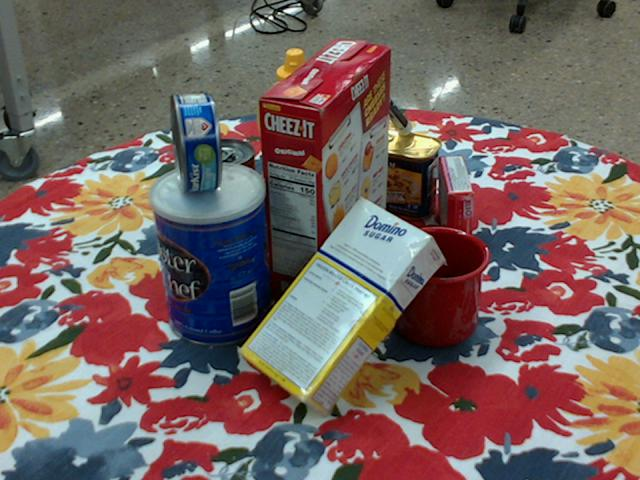cracker_box: (257, 40, 391, 311)
gelatin_box: (438, 154, 472, 251)
large_marker: (364, 80, 411, 134)
master_chef_can: (150, 163, 270, 349)
mug: (360, 225, 489, 346)
mustard_bottle: (256, 49, 343, 223)
potted_meat_can: (348, 124, 441, 219)
sugar_box: (239, 198, 444, 421)
tomato_soup_can: (190, 138, 260, 250)
tuna_fish_can: (169, 93, 222, 193)
